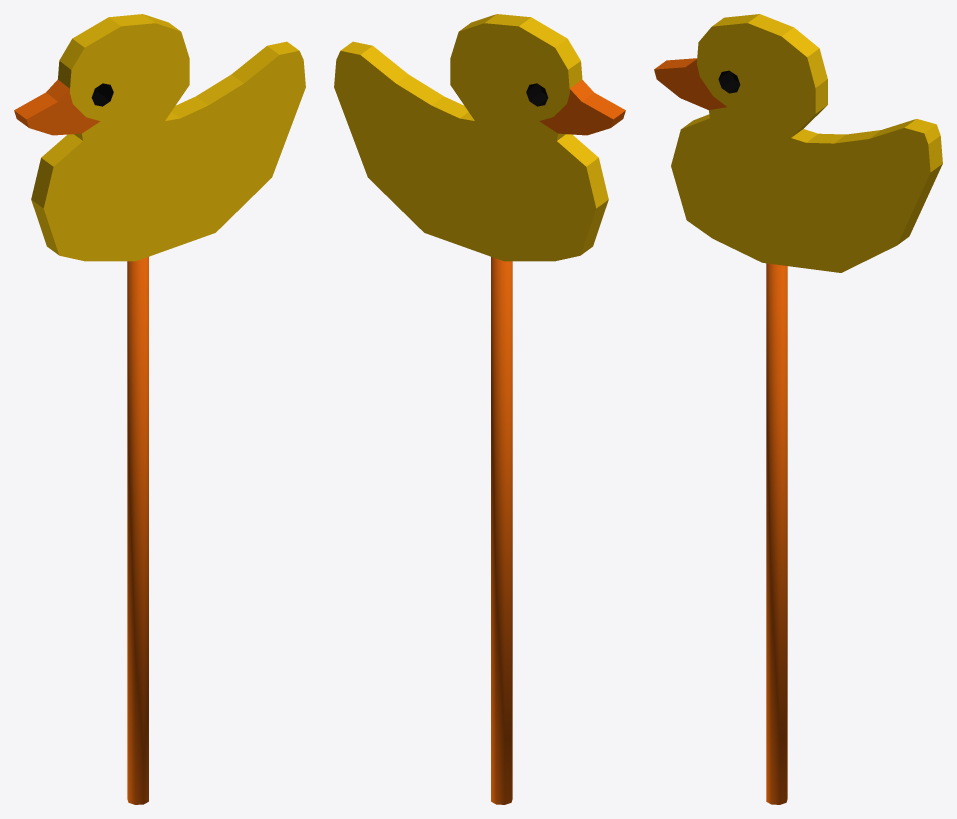
File: duck-target.fbx
The picture shows the model from 3 angles, left to right: view 1: azimuth 30°, elevation 25°; view 2: azimuth 150°, elevation 25°; view 3: azimuth 330°, elevation 25°; orthographic projection.
Parts seen in each view (by area): view 1: Cylinder; view 2: Cylinder; view 3: Cylinder.
Boxes of the visible parts, x1=… form: Cylinder: x1=14, y1=14, x2=305, y2=804; Cylinder: x1=334, y1=14, x2=625, y2=804; Cylinder: x1=654, y1=14, x2=942, y2=804.
Bounding box in the file's own units: 25.2 × 67.58 × 1.96.
